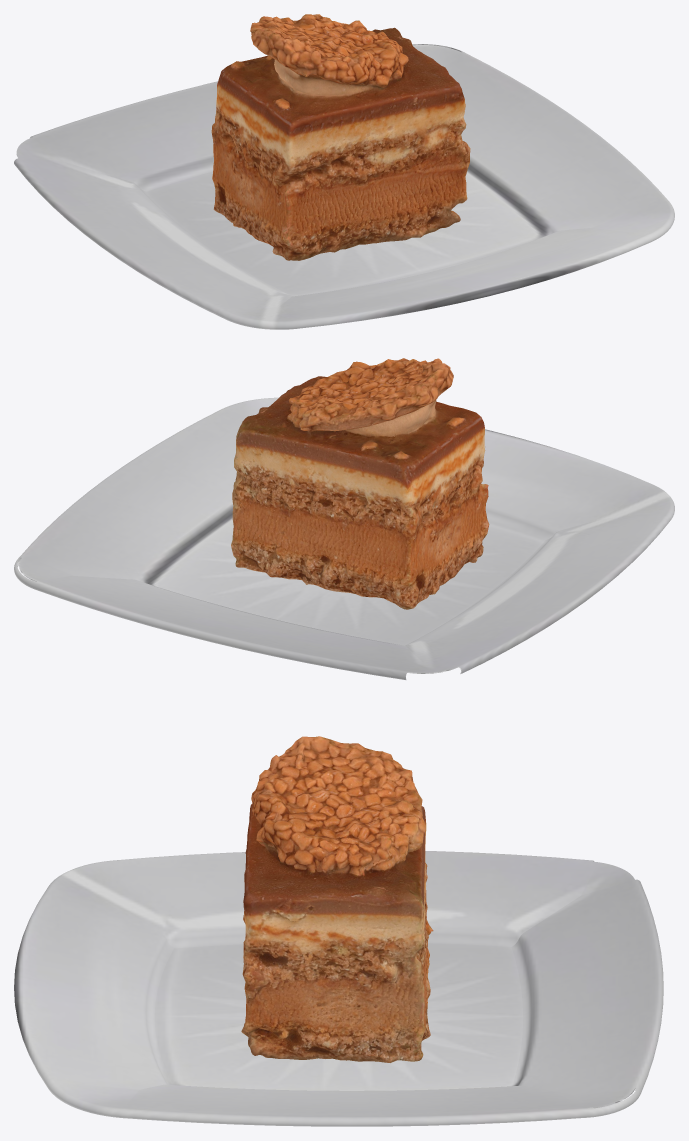
Rendered from food3.glb.
The picture shows the model from 3 angles, top to bottom: view 1: azimuth 30°, elevation 25°; view 2: azimuth 150°, elevation 25°; view 3: azimuth 270°, elevation 25°; orthographic projection. The views are drawn at different scales.
Parts seen in each view (by area): view 1: Material2 (×2); view 2: Material2 (×2); view 3: Material2 (×2).
Boxes of the visible parts, left/top/right/bottom form: Material2 (×2): left=14, top=14, right=674, bottom=329; Material2 (×2): left=14, top=358, right=674, bottom=679; Material2 (×2): left=14, top=736, right=663, bottom=1126.
Size of what is drawn, in the model's own units: 7.25 by 3.02 by 7.47.
3 materials, 2 textured.
